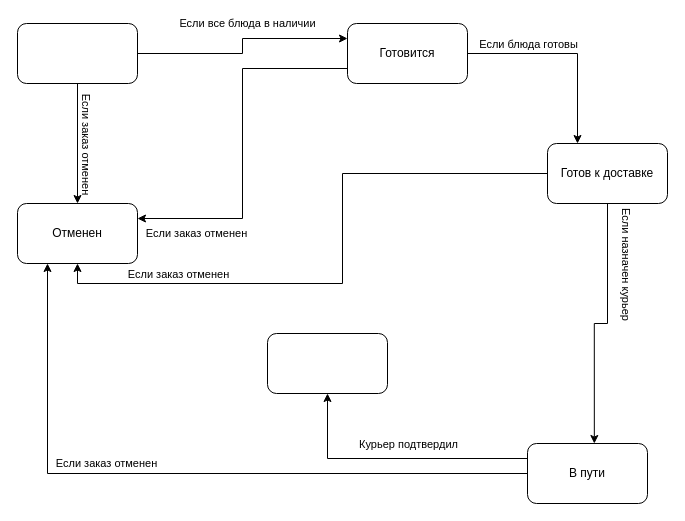
The diagram is 685 pixels wide and 521 high, and some of its shapes have lost their labels. Here are the shapes that lost their labels. From the top down, the box of each, then its label:
(16, 22, 138, 84): Новый
(266, 332, 388, 394): Доставлен
